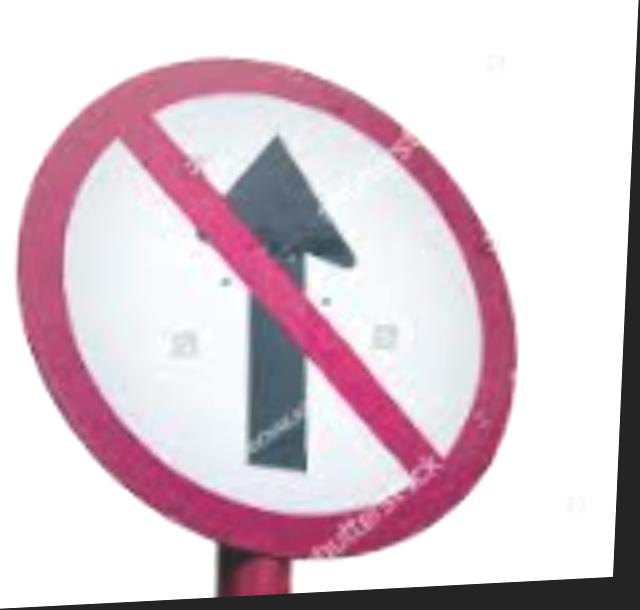not_go_straight: (0, 11, 535, 593)
